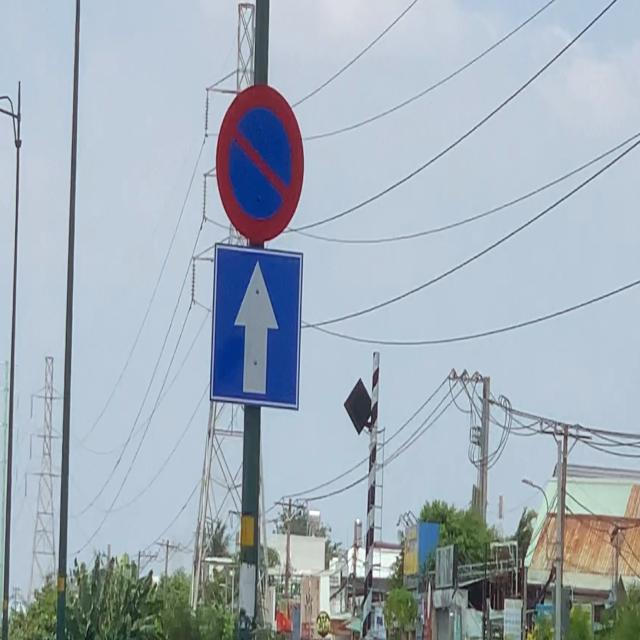Cam do: (216, 84, 304, 244)
Hieu lenh: (209, 242, 304, 412)
